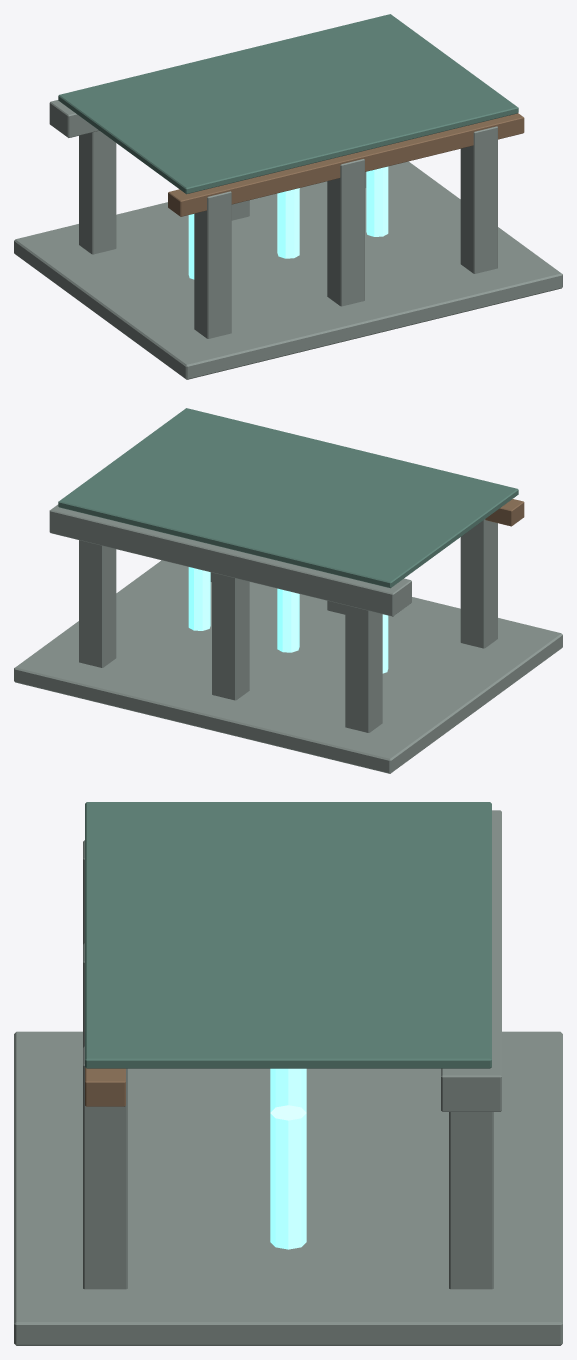
The model's file is LumenVeilfallSanctuary.glb.
The picture shows the model from 3 angles, top to bottom: view 1: azimuth 30°, elevation 25°; view 2: azimuth 150°, elevation 25°; view 3: azimuth 270°, elevation 25°; orthographic projection. The views are drawn at different scales.
Parts seen in each view (by area): view 1: LumenVeilfallSanctuary; view 2: LumenVeilfallSanctuary; view 3: LumenVeilfallSanctuary.
Part boxes in pixels (x1,y1,x2,y2): LumenVeilfallSanctuary: (14, 14, 562, 379); LumenVeilfallSanctuary: (14, 408, 562, 773); LumenVeilfallSanctuary: (14, 802, 562, 1345).
Bounding box in the file's own units: 34 × 14.67 × 27.
